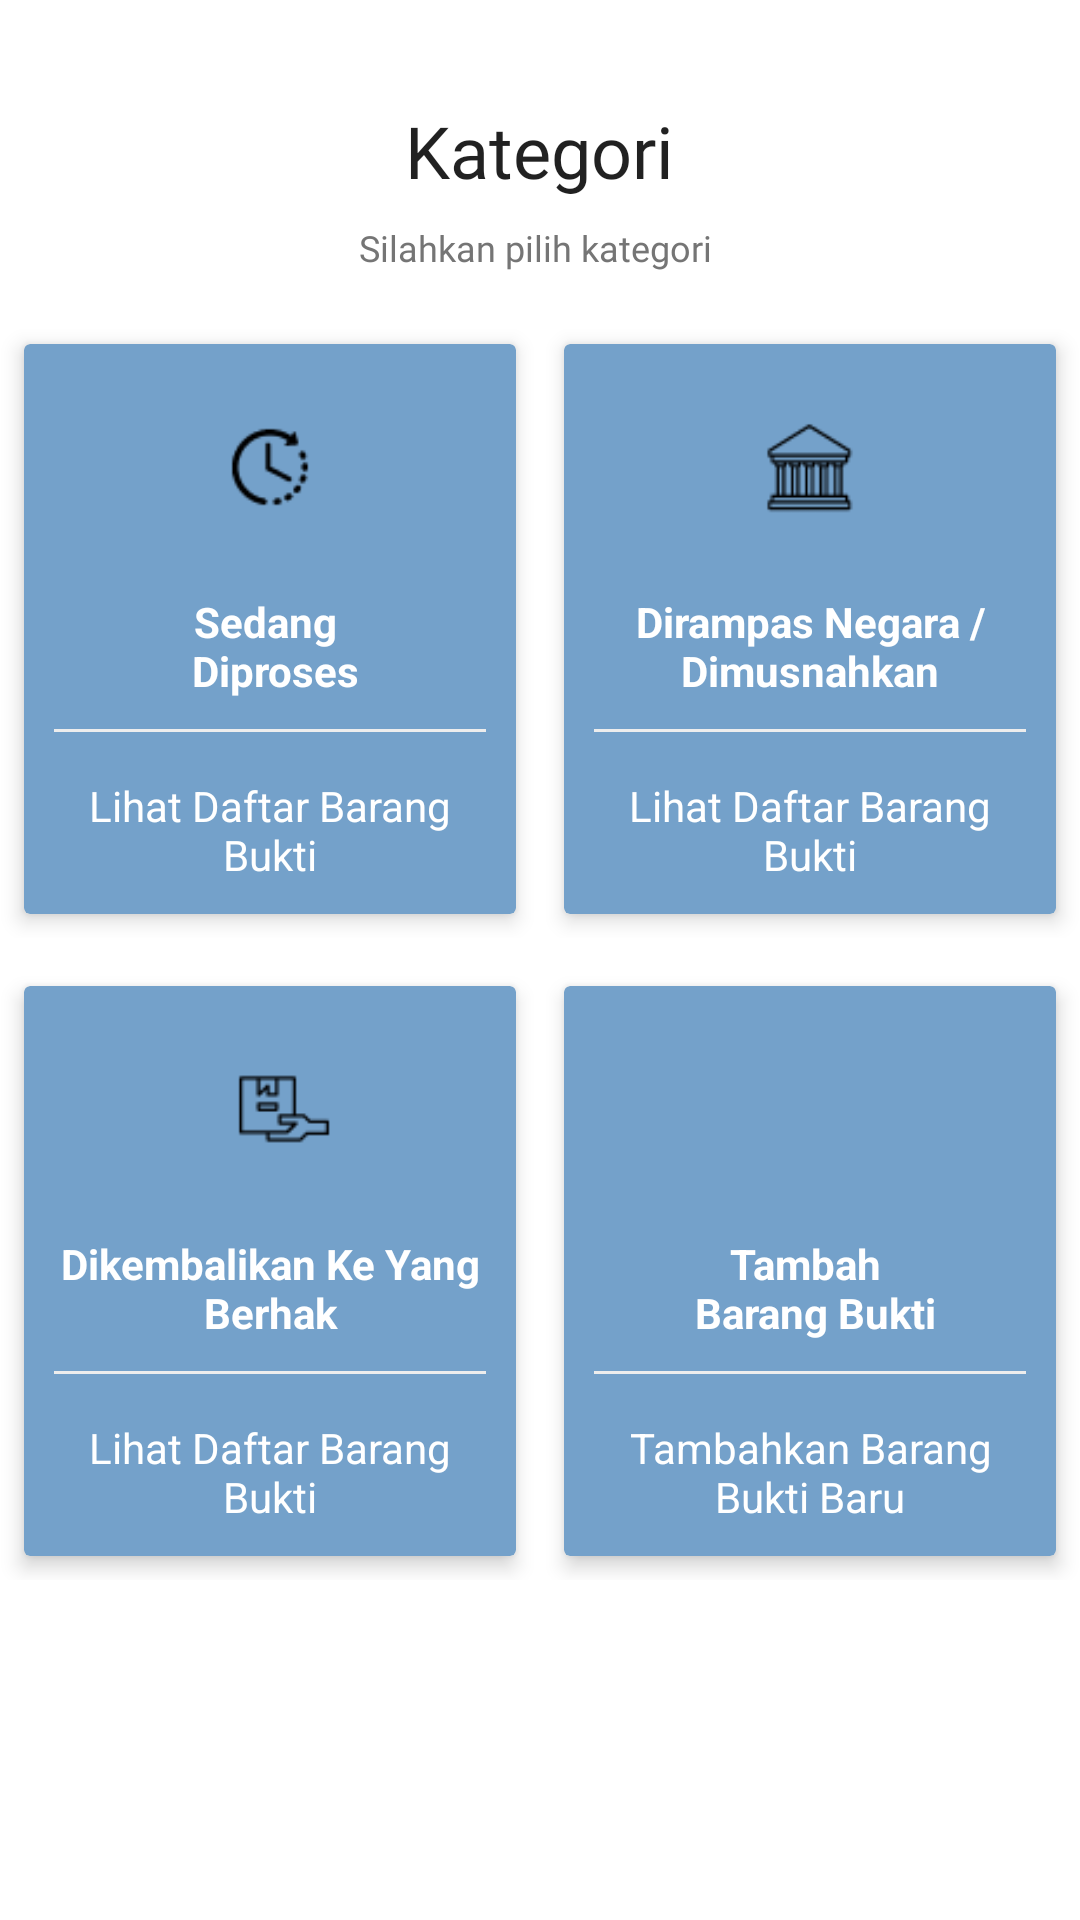

Icons on this 1080w x 1920h Android screen, each with its box as (x1, y1, x2, y2):
process: (231, 428, 309, 506)
returned: (238, 1075, 330, 1143)
